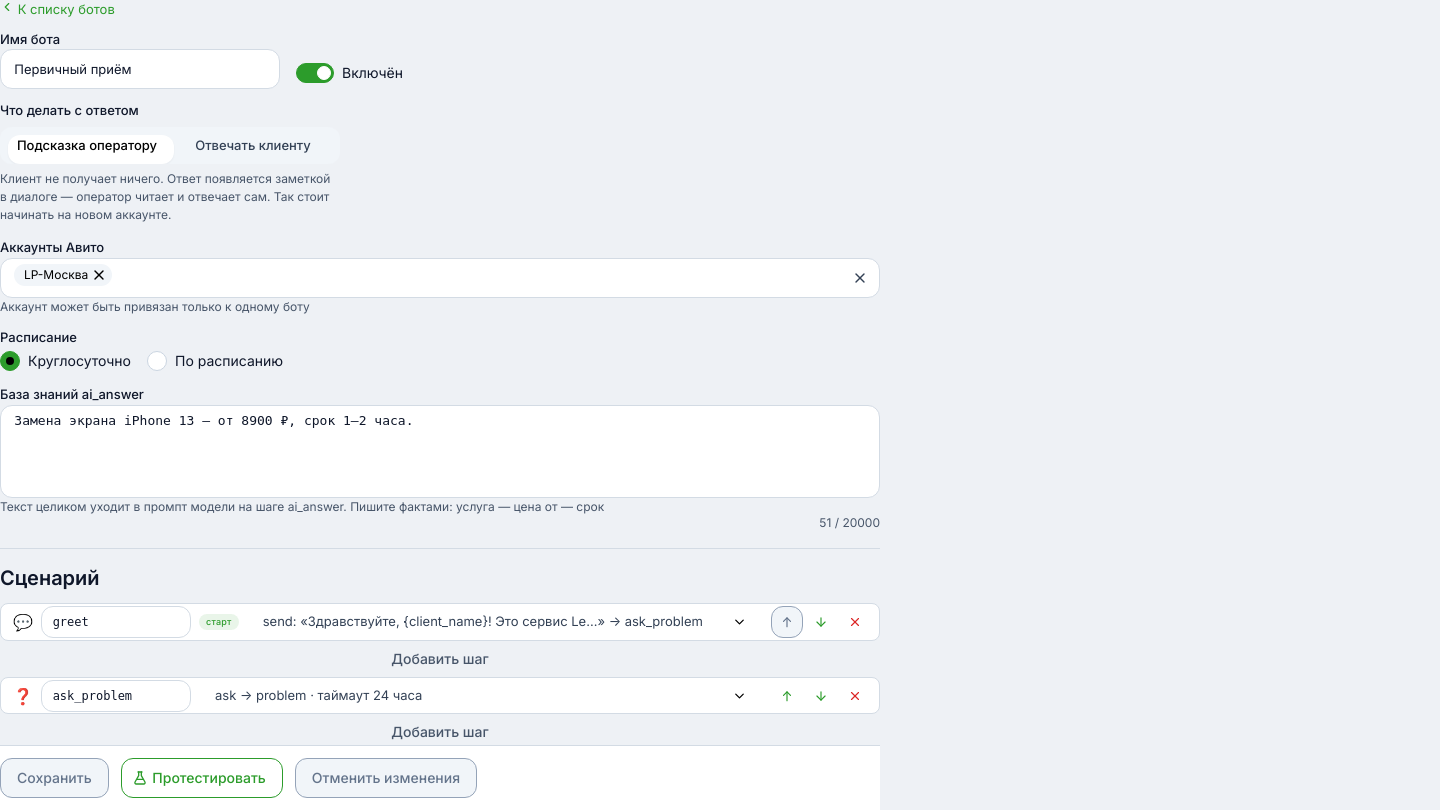
Scenario: Песочница сценария › стартует на несохранённом черновике и прогоняет диалог с трассировкой
This screenshot has width=1440, height=810.
Check: the field labelled "Имя бота" is shown, box [0, 49, 280, 89]
Click the button "Протестировать": point(202, 778) [121, 758, 283, 798]
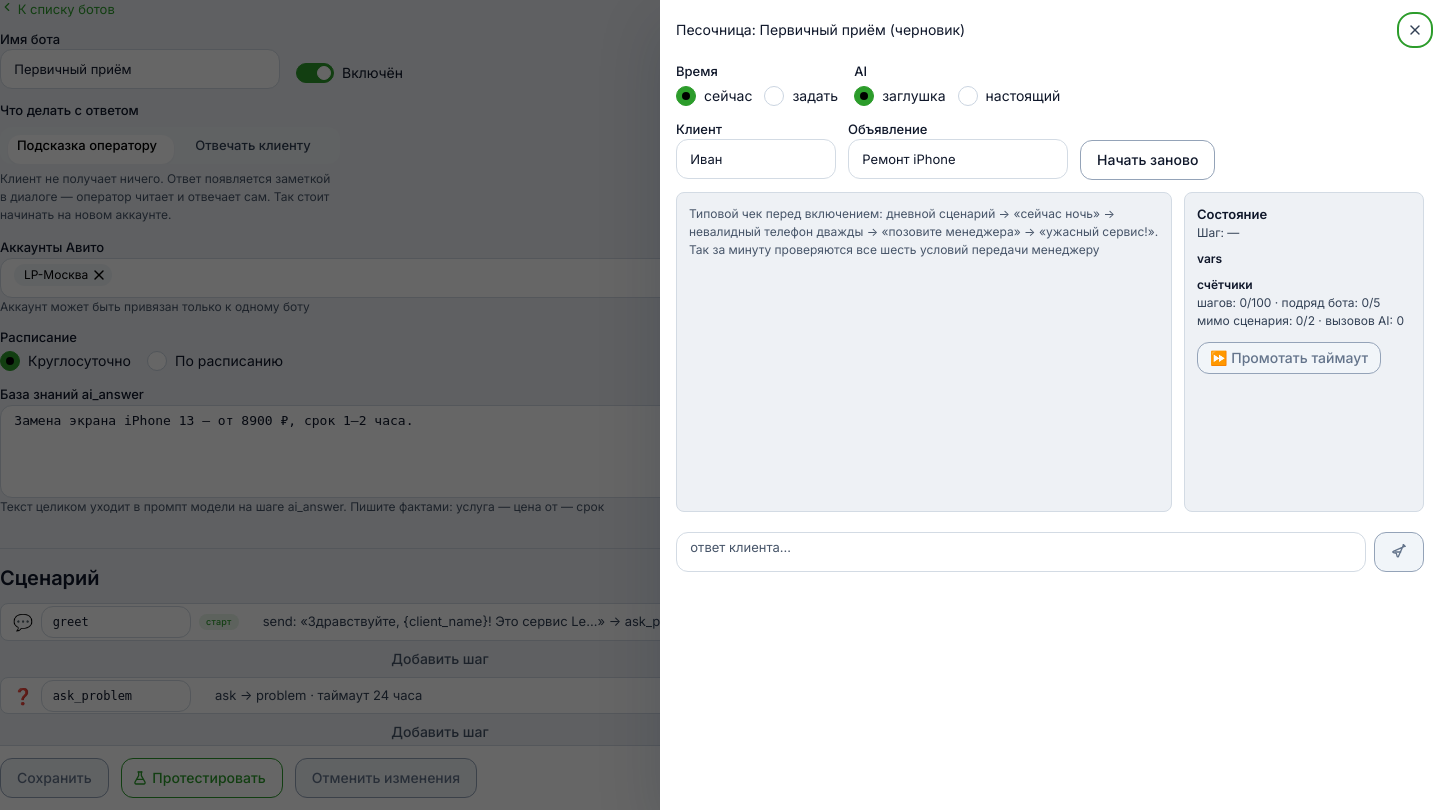
Check: the text box labelled "ответ клиента" is shown
In the text box labelled "ответ клиента": point(1021, 552) [676, 532, 1366, 572], type "разбил экран айфона"
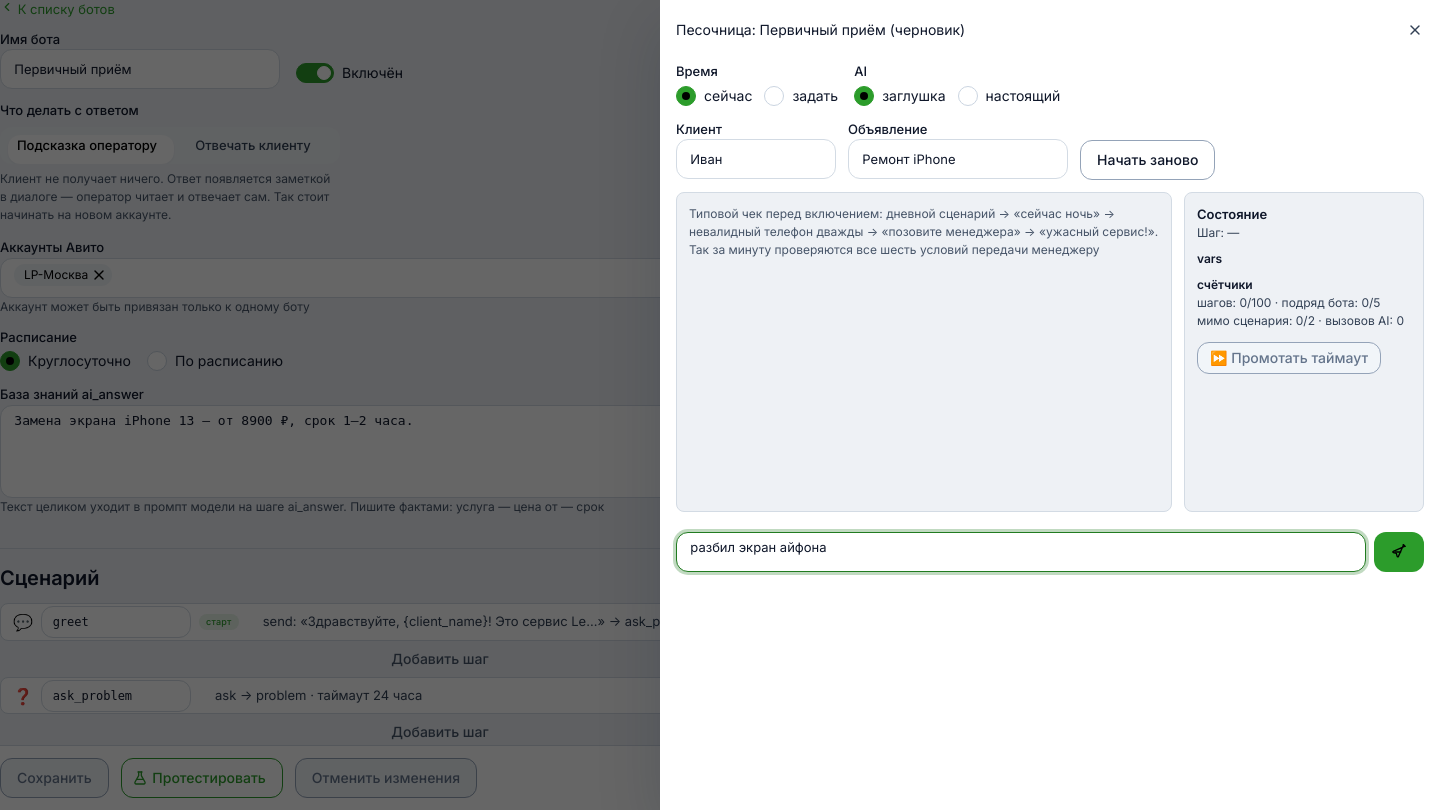
Click the button named "Отправить ответ клиента": point(1399, 552) [1374, 532, 1424, 572]
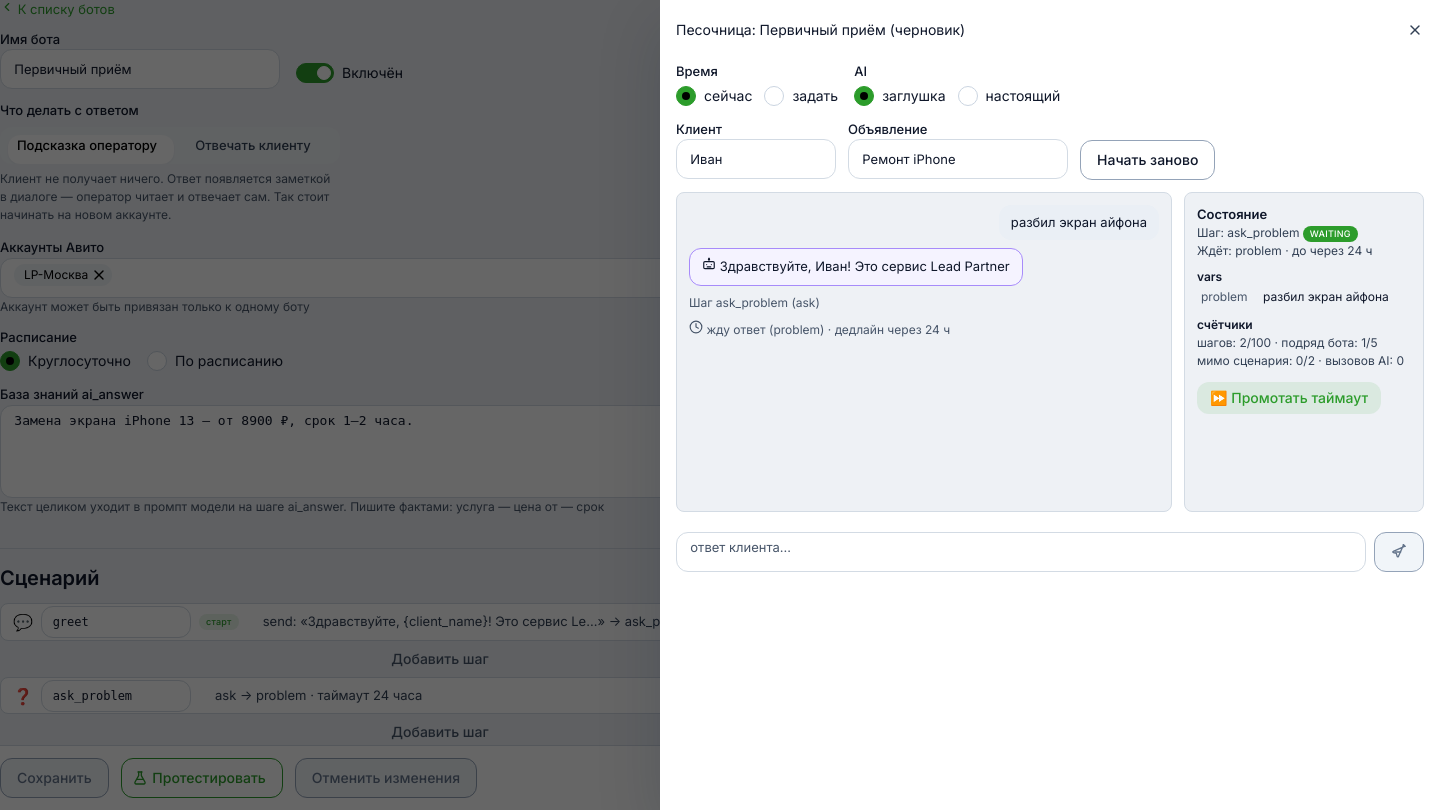
Check: the element with test id "sandbox-chat" shows "Здравствуйте, Иван!", box [720, 258, 1010, 274]
Check: the element with test id "sandbox-chat" shows "разбил экран айфона", box [1011, 214, 1147, 230]
Check: the element with test id "sandbox-chat" shows "Шаг ask_problem (ask)", box [676, 192, 1172, 512]
